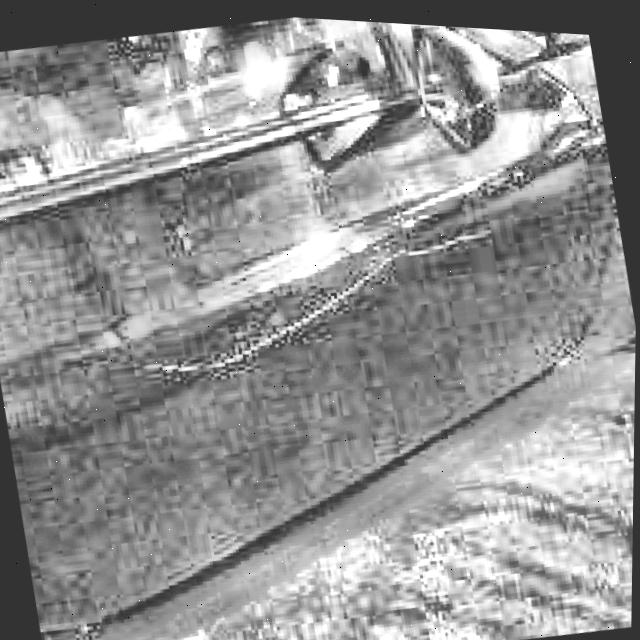door_scratch: (107, 204, 497, 419)
